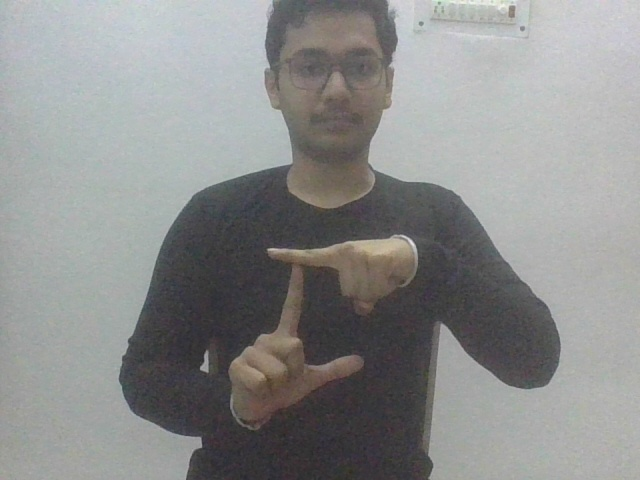J: (230, 235, 416, 430)
